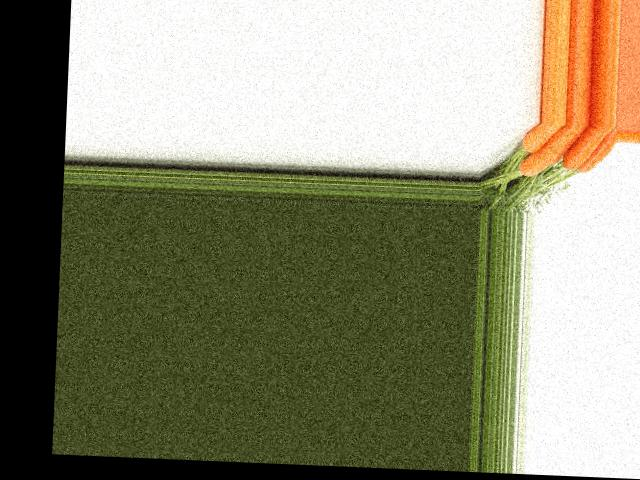carrot: (521, 121, 562, 156)
